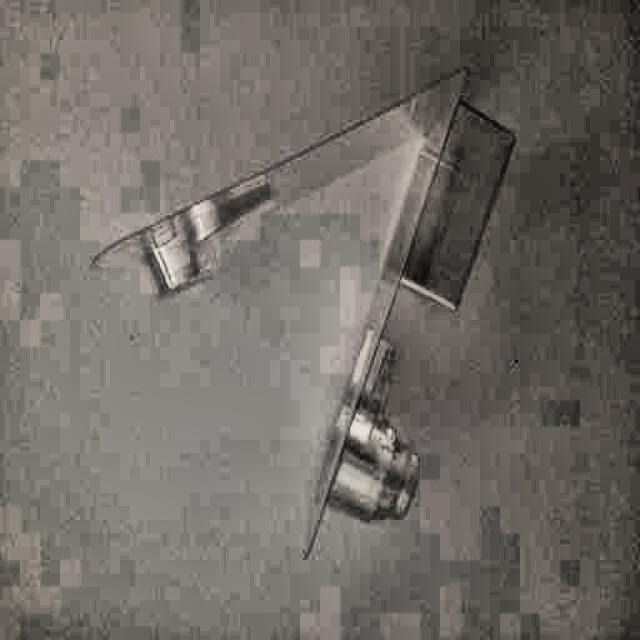plastic: (114, 59, 508, 552)
